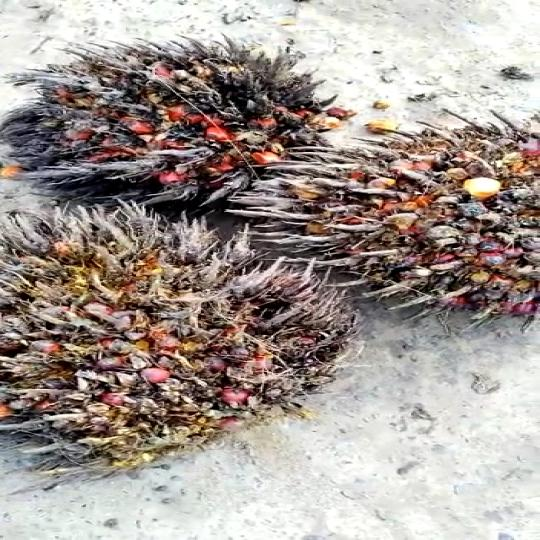terlalu masak: (0, 194, 387, 474), (246, 95, 540, 323), (0, 36, 338, 200)
